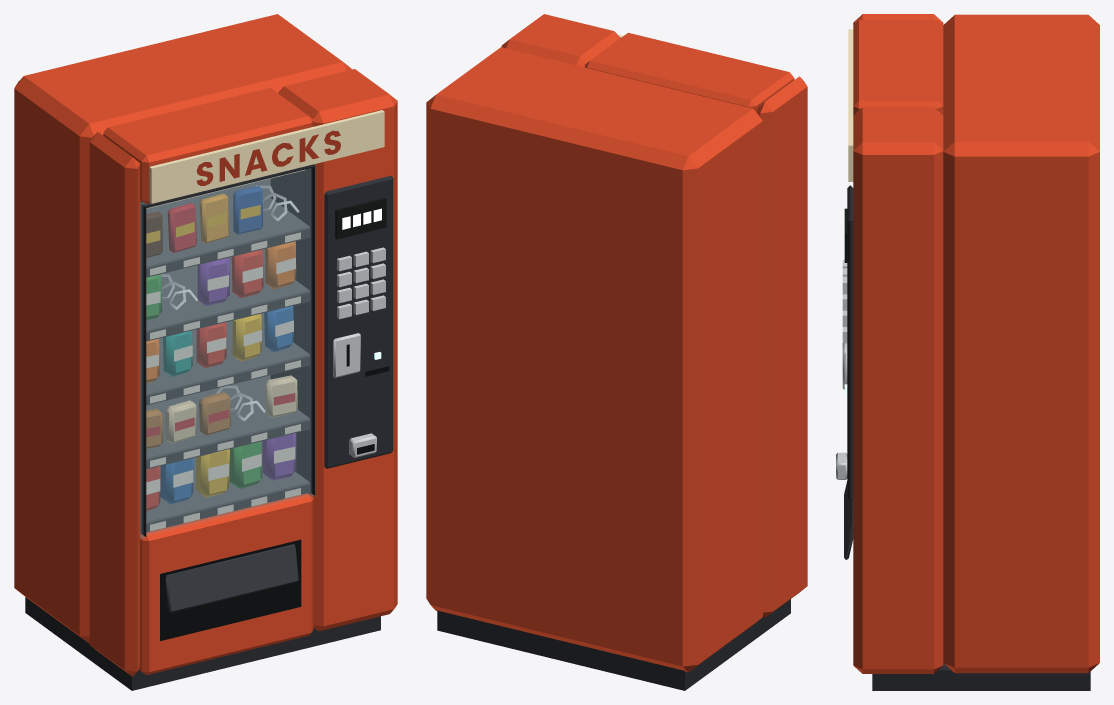
Rendered from Shop_VendingMachine.fbx.
3 views of the same model, side by side, from view 1: azimuth 30°, elevation 25°; view 2: azimuth 150°, elevation 25°; view 3: azimuth 270°, elevation 25° (orthographic). The views are drawn at different scales.
Visible parts, largest first — view 1: Cabinet, Glass, ControlPanel, Shelves, Liner, Lamp, TagStrips, BinFlap, Plinth, BinRecess, SnackLabel0, LinerBack (+21 smaller); view 2: Cabinet, Plinth; view 3: Cabinet, Plinth, ControlPanel, Lamp, BinFlap, Chrome, Buttons.
Part boxes in pixels (box(x1,y1,x2,y2)): Cabinet: box(14, 14, 397, 676); Glass: box(140, 164, 315, 538); ControlPanel: box(324, 175, 393, 468); Shelves: box(146, 198, 309, 523); Liner: box(140, 164, 315, 536); Lamp: box(149, 110, 384, 203); TagStrips: box(146, 228, 310, 531); BinFlap: box(165, 544, 298, 612); Plinth: box(25, 597, 380, 690); BinRecess: box(160, 539, 301, 640); SnackLabel0: box(146, 257, 295, 494); LinerBack: box(146, 179, 270, 472); Cabinet: box(426, 14, 807, 672); Plinth: box(437, 599, 790, 690); Cabinet: box(853, 14, 1099, 673); Plinth: box(872, 663, 1090, 690); ControlPanel: box(847, 185, 853, 501); Lamp: box(848, 29, 853, 181); BinFlap: box(844, 481, 853, 559); Chrome: box(836, 343, 847, 479); Buttons: box(842, 260, 847, 343).
Bounding box in the file's own units: 340 × 640 × 278.
